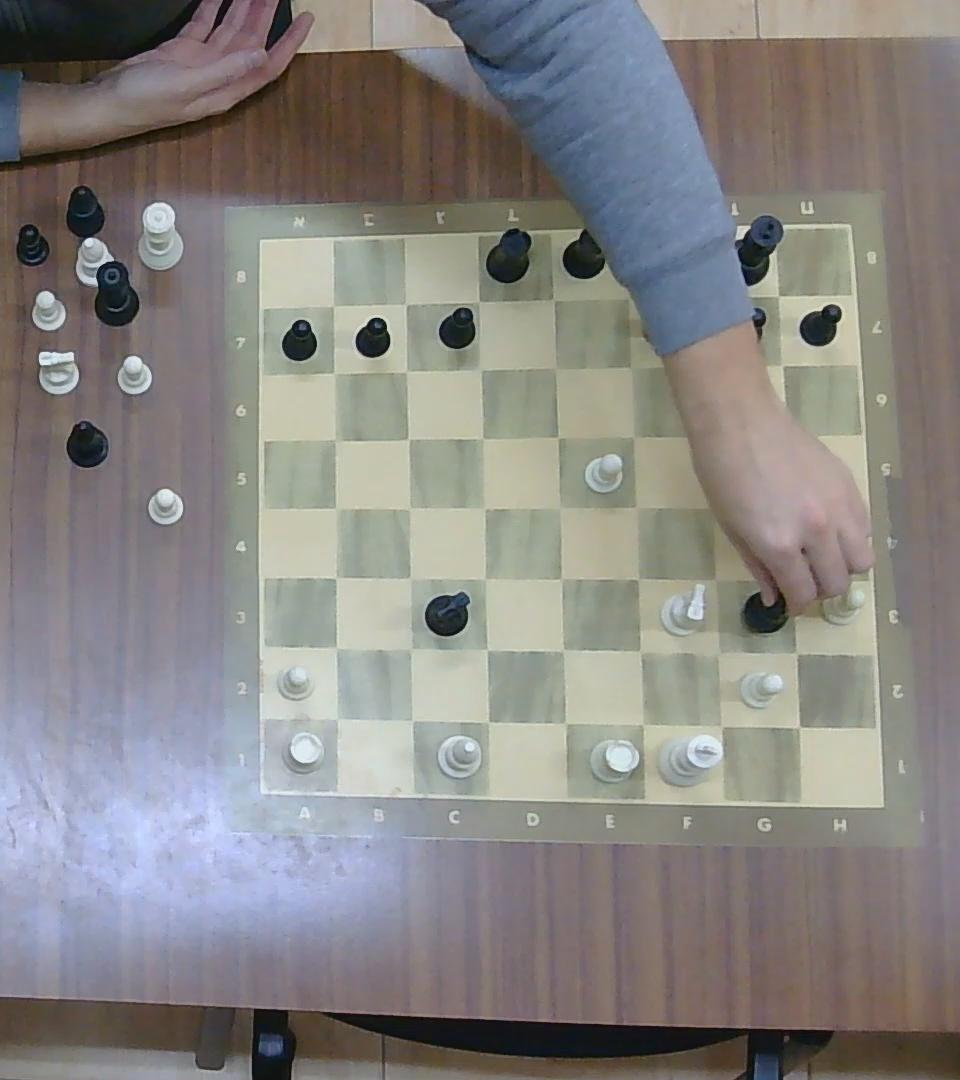xcorner: (702, 707, 737, 740), (624, 707, 658, 740), (781, 710, 815, 743), (701, 636, 735, 669), (774, 421, 806, 455), (548, 705, 579, 739), (624, 635, 656, 667), (471, 705, 502, 738), (776, 489, 806, 523), (396, 704, 427, 736), (547, 633, 578, 665), (320, 701, 351, 733), (622, 563, 653, 594), (781, 637, 812, 668), (469, 563, 500, 594), (394, 632, 425, 663), (470, 634, 501, 664), (320, 561, 350, 592), (547, 563, 577, 594), (320, 632, 350, 663), (544, 492, 574, 523), (700, 563, 730, 594), (618, 350, 648, 381), (615, 281, 644, 312), (622, 491, 651, 521), (543, 422, 573, 451), (470, 493, 499, 522), (393, 424, 422, 453), (542, 353, 571, 382), (694, 491, 723, 520), (467, 422, 495, 451), (322, 493, 350, 522), (778, 561, 807, 589), (698, 422, 726, 451), (395, 492, 423, 520), (395, 564, 423, 592), (320, 425, 349, 452), (465, 354, 494, 381), (621, 421, 648, 449), (318, 291, 346, 318), (689, 280, 714, 310), (540, 285, 567, 312), (320, 358, 348, 384), (392, 356, 419, 382), (465, 287, 491, 313), (695, 352, 720, 379), (392, 289, 418, 314), (766, 282, 791, 308), (771, 351, 795, 377)
